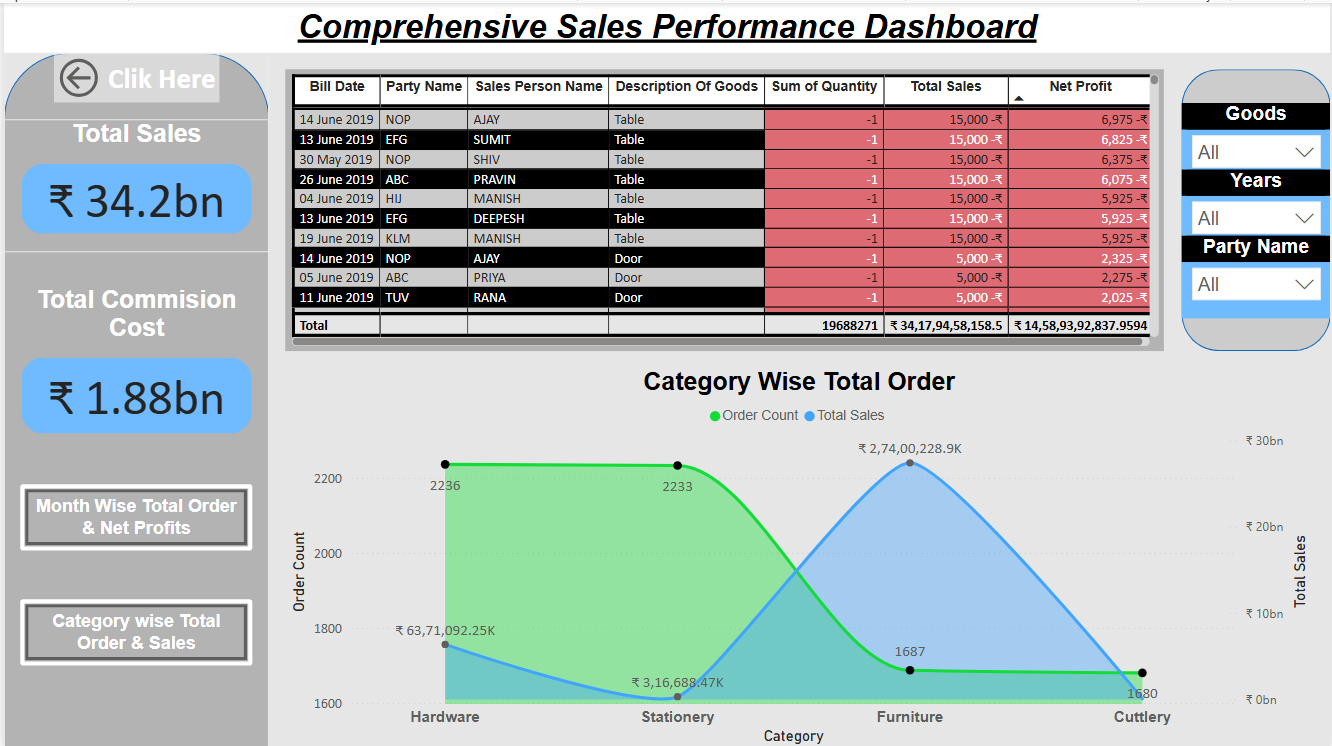

This screenshot's page, from the dashboard's own definition file:
{"tool":"powerbi","page":{"name":"SalesPerson_Details","canvas":[1280,720],"ordinal":1},"visuals":[{"type":"shape","box":[0,48,256,672],"z":0,"group":"g1"},{"type":"shape","box":[1136,64,144,272],"z":0},{"type":"tableEx","fields":{"Values":["Fact_sales.Bill Date","Dim_Customer.Party Name","Commission.Sales Person Name","Fact_sales.Description Of Goods","Sum(Fact_sales.Quantity)","Fact_sales.Total Sales","Fact_sales.Net Profit"]},"box":[272,64,848,272],"z":1000},{"type":"group","id":"g1","title":"Group 1","box":[0,48,256,672],"z":2000},{"type":"cardVisual","title":"Total Commision Cost","fields":{"Data":["Fact_sales.Total Commission"]},"box":[0,272,256,160],"z":3000,"group":"g1"},{"type":"lineChart","title":"Category Wise Total Order","fields":{"Category":["Fact_sales.Category"],"Y":["Fact_sales.Order Count"],"Y2":["Fact_sales.Total Sales"]},"box":[272,352,992,368],"z":3000},{"type":"cardVisual","title":"Total Sales","fields":{"Data":["Fact_sales.Total Sales"]},"box":[0,112,256,128],"z":4000,"group":"g1"},{"type":"actionButton","box":[48,48,160,48],"z":4500,"group":"g1"},{"type":"actionButton","title":"Category Button","box":[16,576,224,64],"z":5000},{"type":"actionButton","title":"Month Button","box":[16,464,224,64],"z":6000},{"type":"textbox","box":[0,0,1280,48],"z":7000},{"type":"slicer","title":"Years","fields":{"Values":["Fact_sales.Year"]},"box":[1136,160,144,80],"z":8000},{"type":"slicer","title":"Goods","fields":{"Values":["Fact_sales.Description Of Goods"]},"box":[1136,96,144,64],"z":9000},{"type":"slicer","title":"Party Name","fields":{"Values":["Fact_sales.Party Name"]},"box":[1136,224,144,80],"z":9001}]}

Visuals, with their boxes in screenshot pixels (x1, y1, x2, y2), scaled from the page's 1280x720 canvas onto the 1332x746 screenshot:
shape: 0, 50, 266, 745
shape: 1182, 66, 1331, 348
tableEx - Fact_sales.Bill Date x Dim_Customer.Party Name: 283, 66, 1166, 348
"Group 1" group: 0, 50, 266, 745
"Total Commision Cost" cardVisual: 0, 282, 266, 448
"Category Wise Total Order" lineChart: 283, 365, 1315, 745
"Total Sales" cardVisual: 0, 116, 266, 249
actionButton: 50, 50, 216, 99
"Category Button" actionButton: 17, 597, 250, 663
"Month Button" actionButton: 17, 481, 250, 547
textbox: 0, 0, 1331, 50
"Years" slicer: 1182, 166, 1331, 249
"Goods" slicer: 1182, 99, 1331, 166
"Party Name" slicer: 1182, 232, 1331, 315
